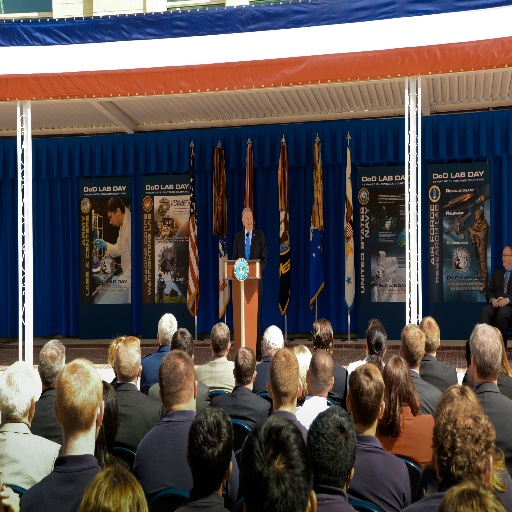hand: (496, 294, 507, 309), (492, 297, 498, 309)
